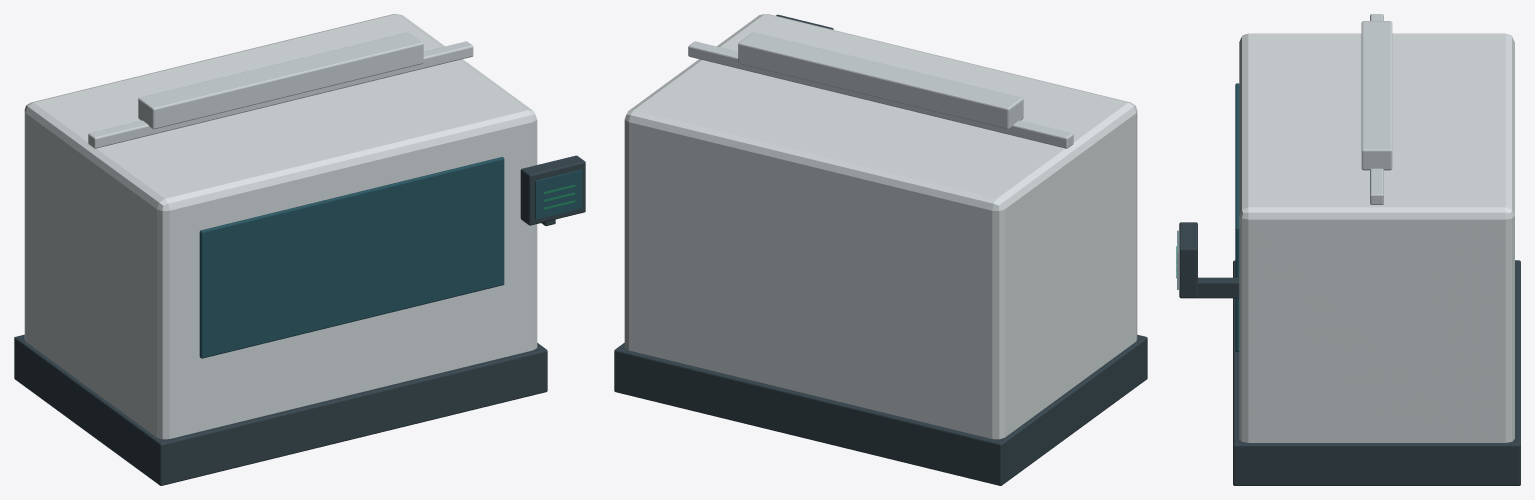
File: station-1.glb
3 renders of one model, left to right at view 1: azimuth 30°, elevation 25°; view 2: azimuth 150°, elevation 25°; view 3: azimuth 270°, elevation 25°, orthographic. The views are drawn at different scales.
Parts seen in each view (by area): view 1: Machine chassis; view 2: Machine chassis; view 3: Machine chassis.
Part boxes in pixels (x1=…): Machine chassis: x1=14, y1=14, x2=585, y2=485; Machine chassis: x1=614, y1=14, x2=1147, y2=485; Machine chassis: x1=1176, y1=14, x2=1520, y2=485.
Bounding box in the file's own units: 2.94 × 2.26 × 2.25.
